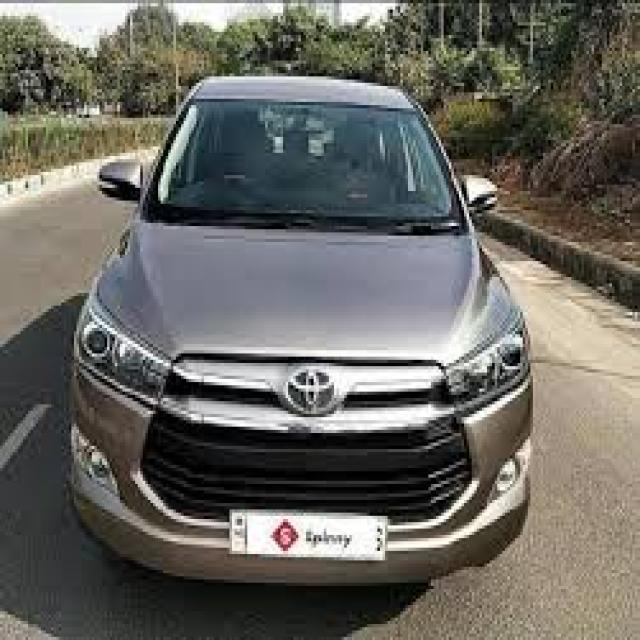light_vehicle: (68, 75, 536, 586)
